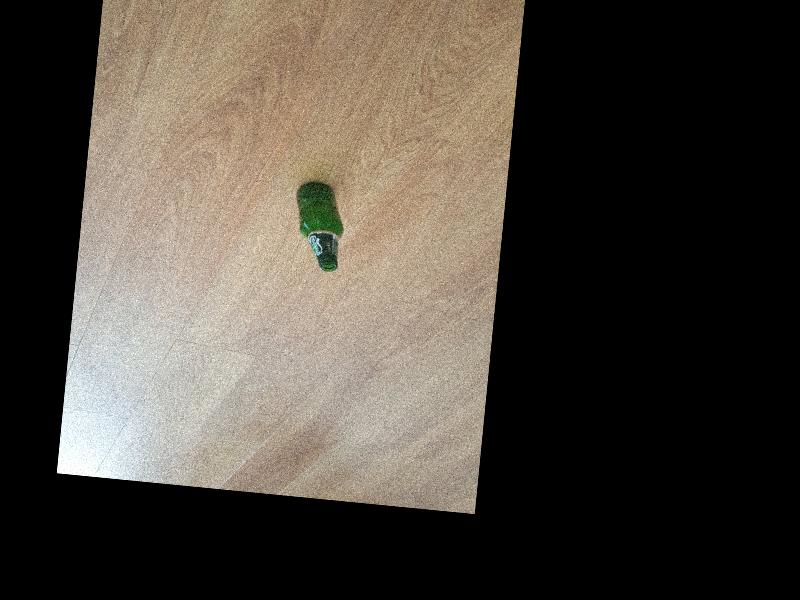Beer: (288, 179, 348, 273)
